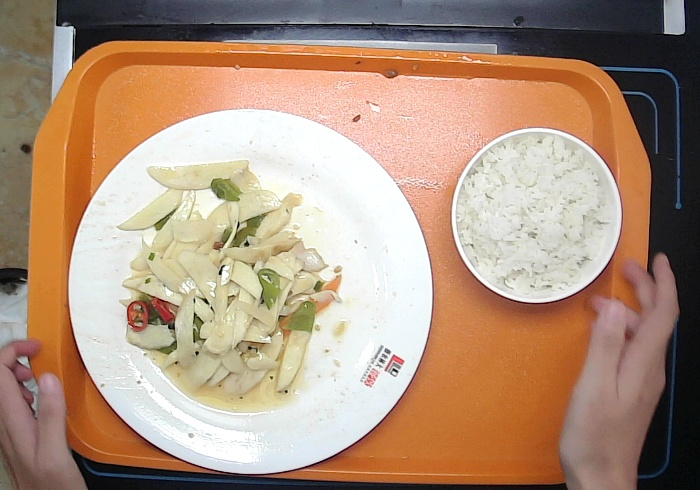ZNLD-Da_Yuan_Pan: (62, 90, 450, 476)
ZNLD-Fan_Wan: (439, 119, 635, 312)
